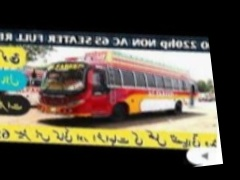bus: (31, 34, 204, 145)
